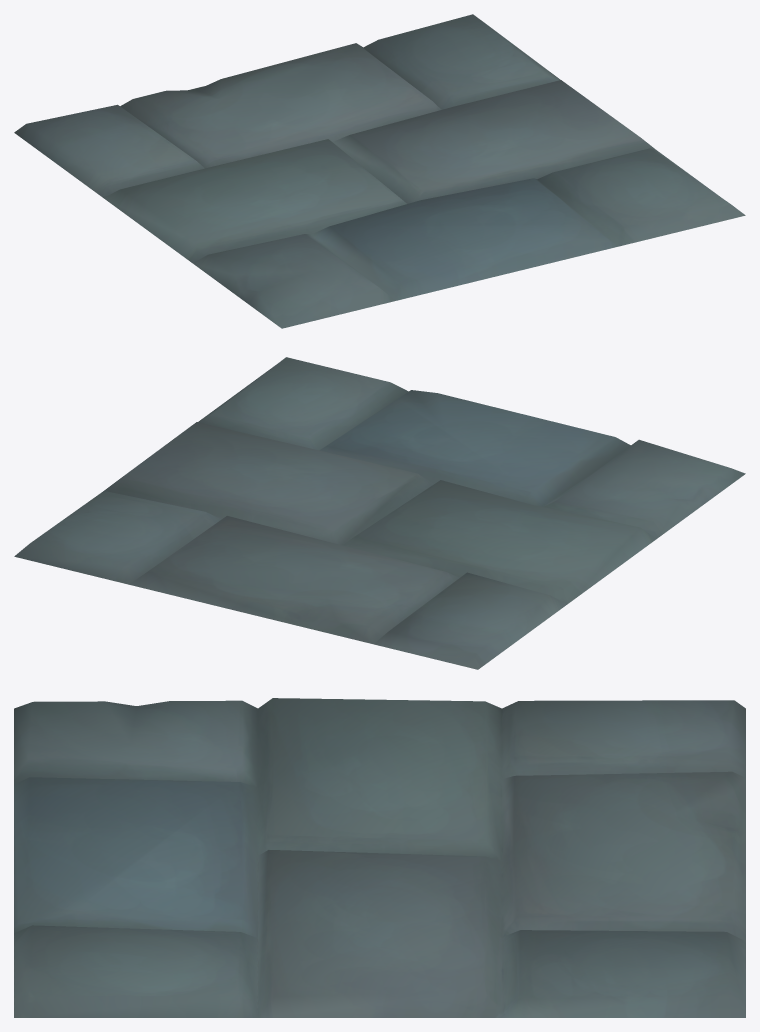
Rendered from floor_ice.fbx.
3 renders of one model, top to bottom at view 1: azimuth 30°, elevation 25°; view 2: azimuth 150°, elevation 25°; view 3: azimuth 270°, elevation 25°, orthographic. The views are drawn at different scales.
Visible parts, largest first — view 1: Floor_Ice; view 2: Floor_Ice; view 3: Floor_Ice.
Part boxes in pixels (x1=…): Floor_Ice: x1=14, y1=14, x2=745, y2=328; Floor_Ice: x1=14, y1=357, x2=745, y2=669; Floor_Ice: x1=14, y1=698, x2=745, y2=1017.
Size of the model in its own units: 200 by 5.36 by 200.
Materials: 1 (1 with a texture image).
